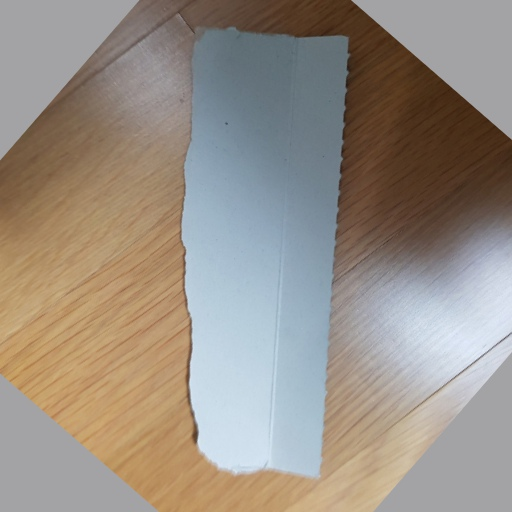Paper_2: (179, 23, 353, 494)
